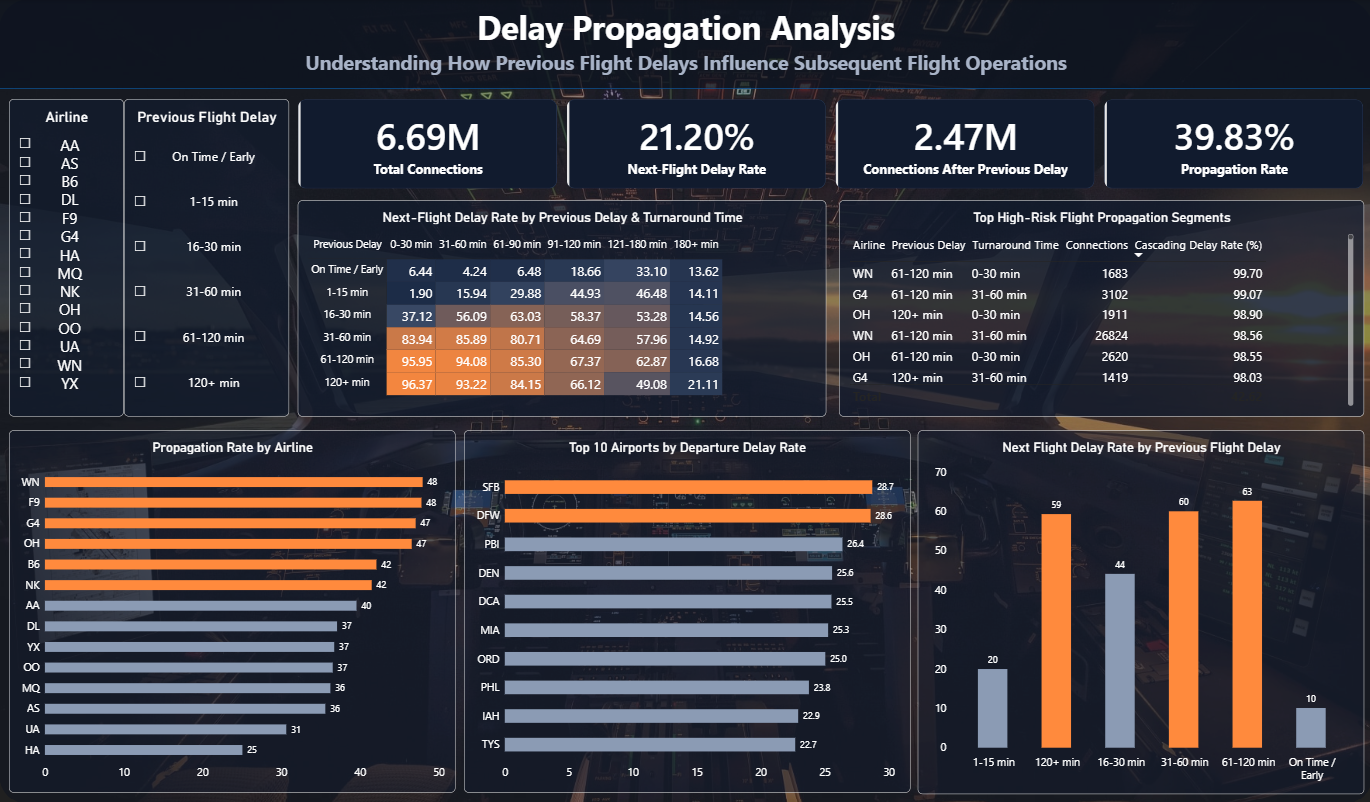

The dashboard page shown, as its layout file describes it:
{"tool":"powerbi","page":{"name":"Delay Propagation Analysis","canvas":[2250,1320],"ordinal":2},"visuals":[{"type":"shape","box":[0,0,2250,1320.8],"z":0},{"type":"shape","box":[0,0,2249.8,147.4],"z":1000},{"type":"textbox","box":[0,10.4,2250,137.5],"z":2000},{"type":"cardVisual","fields":{"Data":["public vw_airline_propagation.Total Connections"]},"box":[489.3,163.8,425,147.9],"z":3000},{"type":"cardVisual","fields":{"Data":["public vw_airline_propagation.Next-Flight Delay Rate"]},"box":[929.4,163.8,425,147.9],"z":4000},{"type":"cardVisual","fields":{"Data":["public vw_airline_propagation.Connections After Previous Delay"]},"box":[1369.5,163.8,425,147.9],"z":5000},{"type":"cardVisual","fields":{"Data":["public vw_airline_propagation.Propagation Rate"]},"box":[1809.7,163.8,425,147.9],"z":6000},{"type":"pivotTable","title":"Next-Flight Delay Rate by Previous Delay & Turnaround Time","fields":{"Columns":["public vw_propagation_matrix.turnaround_bucket"],"Rows":["public vw_propagation_matrix.previous_delay_bucket"],"Values":["Avg(public vw_propagation_matrix.next_flight_delay_rate)"]},"box":[489.3,329.6,865.9,354.2],"z":7000},{"type":"clusteredColumnChart","title":"Next Flight Delay Rate by Previous Flight Delay","fields":{"Category":["public vw_propagation_summary.previous_delay_bucket"],"Y":["Avg(public vw_propagation_summary.next_flight_delay_rate)"]},"box":[1504.7,706.3,730.8,595.7],"z":8000},{"type":"clusteredBarChart","title":"Propagation Rate by Airline","fields":{"Category":["public vw_airline_propagation.airline"],"Y":["Avg(public vw_airline_propagation.propagation_rate_after_previous_delay)"]},"box":[16.4,706.3,730.8,593.7],"z":9000},{"type":"tableEx","title":"Top High-Risk Flight Propagation Segments","fields":{"Values":["public vw_high_risk_segments.airline","public vw_high_risk_segments.previous_delay_bucket","public vw_high_risk_segments.turnaround_bucket","public vw_high_risk_segments.connections","Avg(public vw_high_risk_segments.cascading_delay_rate)"]},"box":[1375.7,329.6,859.8,354.2],"z":10000},{"type":"clusteredBarChart","title":"Top 10 Airports by Departure Delay Rate","fields":{"Category":["public vw_airport_delay_summary.airport"],"Y":["Avg(public vw_airport_delay_summary.departure_delay_rate)"]},"box":[761.5,706.3,730.8,593.7],"z":11000},{"type":"listSlicer","title":"Airline","fields":{"Values":["public vw_airline_propagation.airline"]},"box":[16.4,163.8,188.3,520],"z":12000},{"type":"listSlicer","title":"Previous Flight Delay","fields":{"Values":["public vw_propagation_matrix.previous_delay_bucket"]},"box":[204.7,163.8,270.2,520],"z":13000}]}

Visuals, with their boxes in screenshot pixels (x1, y1, x2, y2), scaled from the page's 2250x1320 canvas onto the 1370x802 screenshot:
shape: 0:0:1369:801
shape: 0:0:1369:90
textbox: 0:6:1369:90
cardVisual - public vw_airline_propagation.Total Connections: 298:100:557:189
cardVisual - public vw_airline_propagation.Next-Flight Delay Rate: 566:100:825:189
cardVisual - public vw_airline_propagation.Connections After Previous Delay: 834:100:1093:189
cardVisual - public vw_airline_propagation.Propagation Rate: 1102:100:1361:189
"Next-Flight Delay Rate by Previous Delay & Turnaround Time" pivotTable: 298:200:825:415
"Next Flight Delay Rate by Previous Flight Delay" clusteredColumnChart: 916:429:1361:791
"Propagation Rate by Airline" clusteredBarChart: 10:429:455:790
"Top High-Risk Flight Propagation Segments" tableEx: 838:200:1361:415
"Top 10 Airports by Departure Delay Rate" clusteredBarChart: 464:429:909:790
"Airline" listSlicer: 10:100:125:415
"Previous Flight Delay" listSlicer: 125:100:289:415
